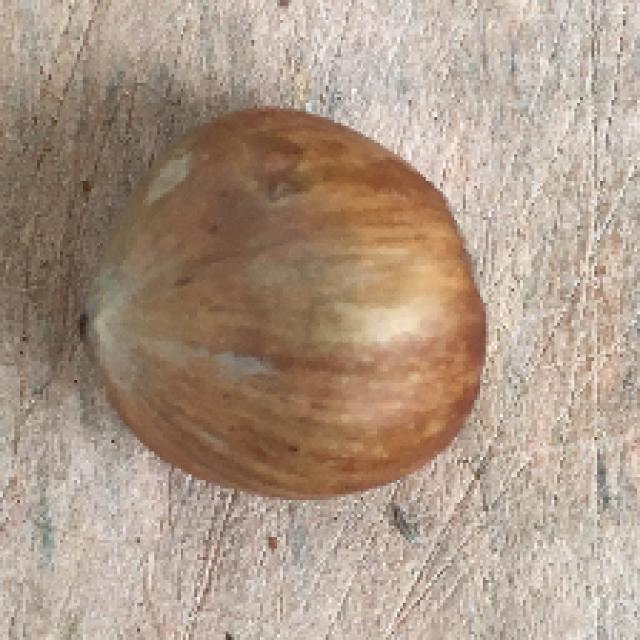damagedHazelnut: (76, 100, 489, 503)
